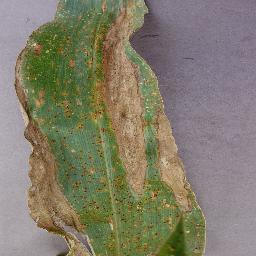Corn_Blight: (101, 0, 196, 205), (28, 206, 210, 254), (46, 0, 101, 122), (21, 123, 101, 205), (10, 31, 45, 122), (34, 24, 47, 32)
